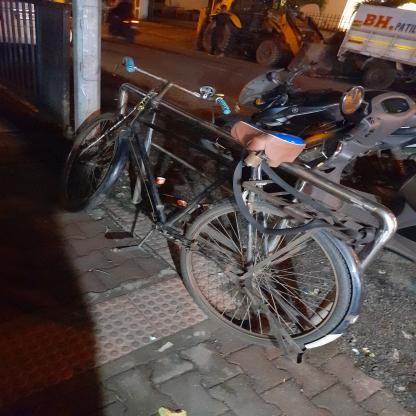bicycle: (41, 37, 386, 376)
